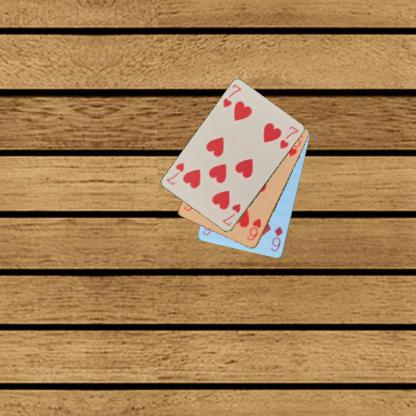6d: (268, 224, 284, 253)
6h: (244, 216, 262, 242)
7h: (219, 201, 242, 228), (220, 82, 243, 109)
